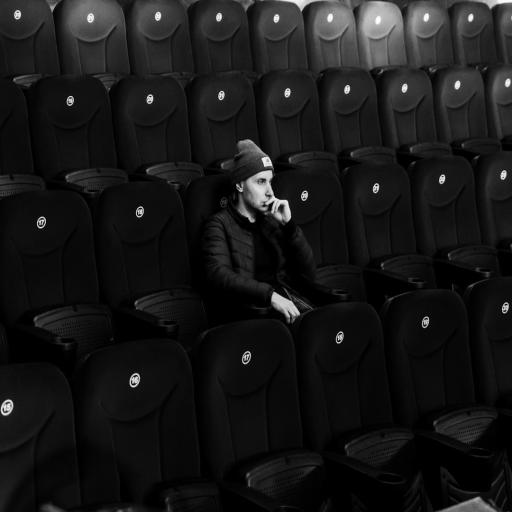face: (237, 171, 273, 214)
